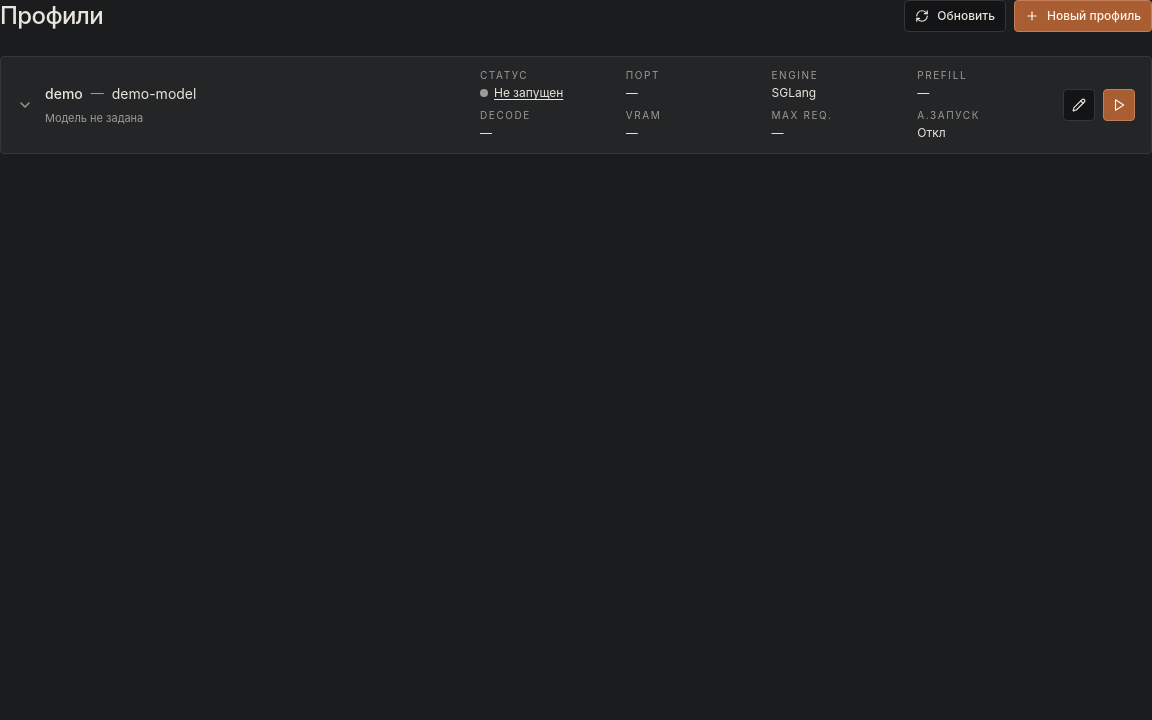
Explicit profile port › requires a valid explicit port for {{port}}:
Click the button named "Изменить" at point(1079, 105), box 1063,89 -> 1095,121
(page scrolled)
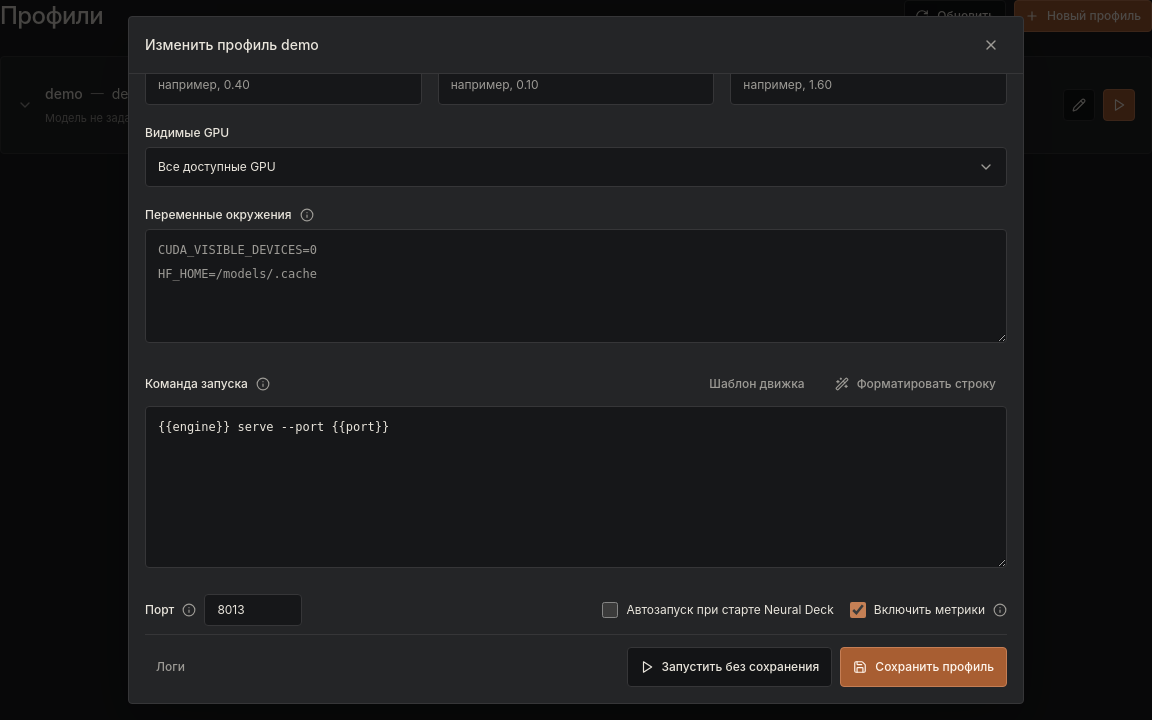
Now the text box labelled "Команда запуска" holds "{{engine}} serve --port {{port}}", box 145,406 -> 1007,568
Clear the number field labelled "Порт" at point(253, 610), box 204,594 -> 302,626
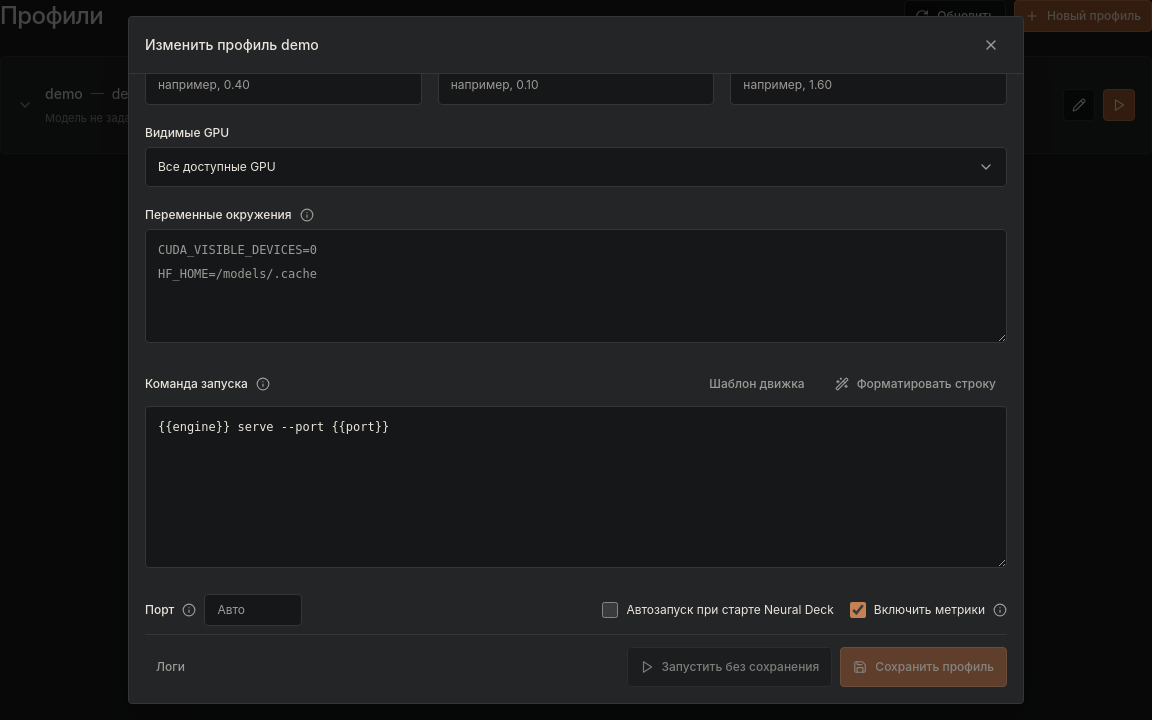
Now the button "Сохранить профиль" is disabled, box 840,646 -> 1007,686
